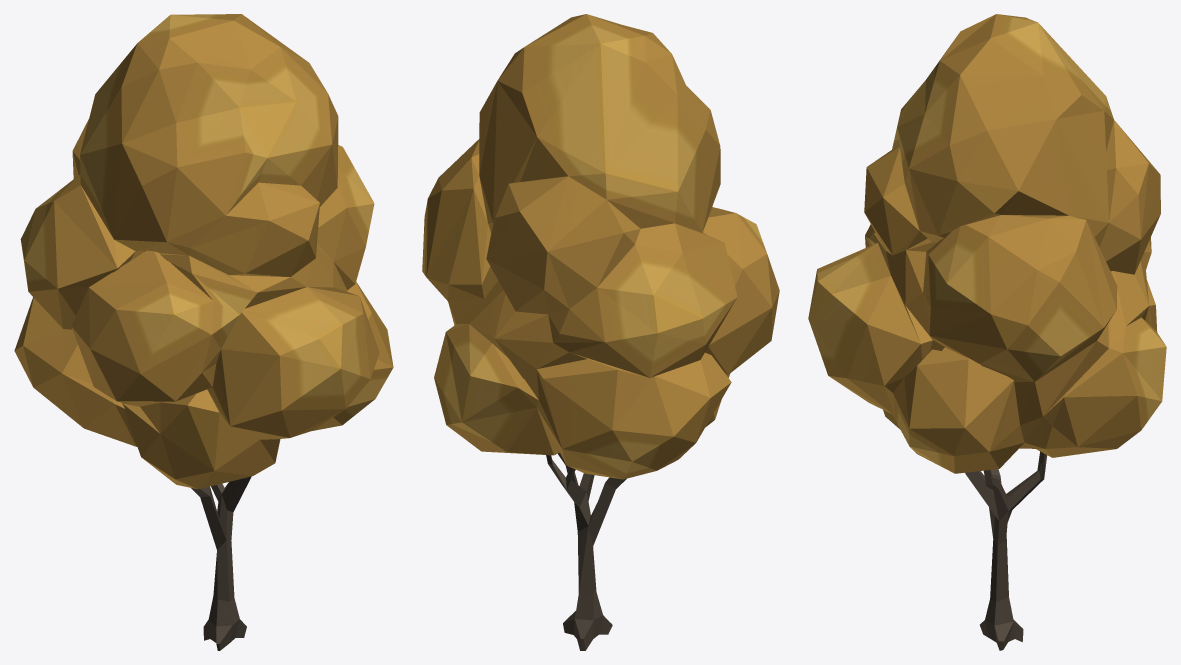
Rendered from tree-01.glb.
3 renders of one model, left to right at view 1: azimuth 30°, elevation 25°; view 2: azimuth 150°, elevation 25°; view 3: azimuth 270°, elevation 25°, orthographic. The views are drawn at different scales.
Parts seen in each view (by area): view 1: SM_Env_Tree_01; view 2: SM_Env_Tree_01; view 3: SM_Env_Tree_01.
Boxes of the visible parts, bbox=[...] form: SM_Env_Tree_01: bbox=[14, 14, 393, 650]; SM_Env_Tree_01: bbox=[422, 14, 779, 650]; SM_Env_Tree_01: bbox=[808, 14, 1166, 650].
Size of the model in its own units: 651 by 1251 by 668.
Materials: 1 (1 with a texture image).
